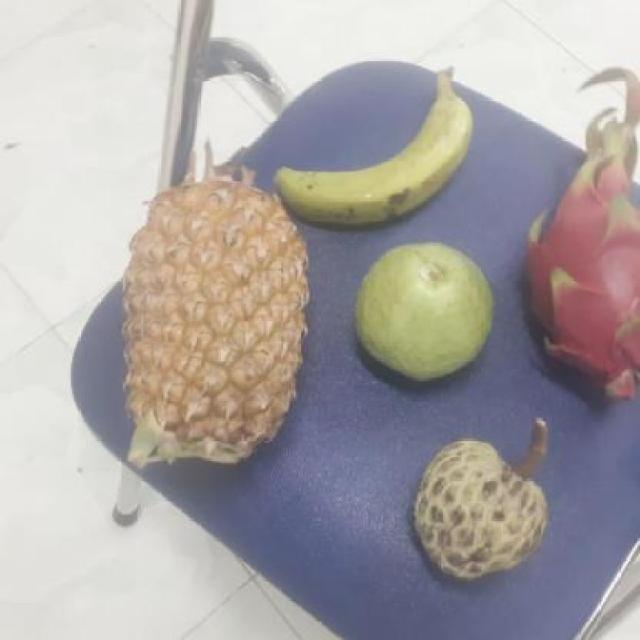banana: (253, 62, 476, 229)
dragon fruit: (519, 160, 639, 402)
guava: (349, 241, 493, 384)
pineapple: (116, 181, 310, 470)
sugar apple: (405, 430, 550, 582)
